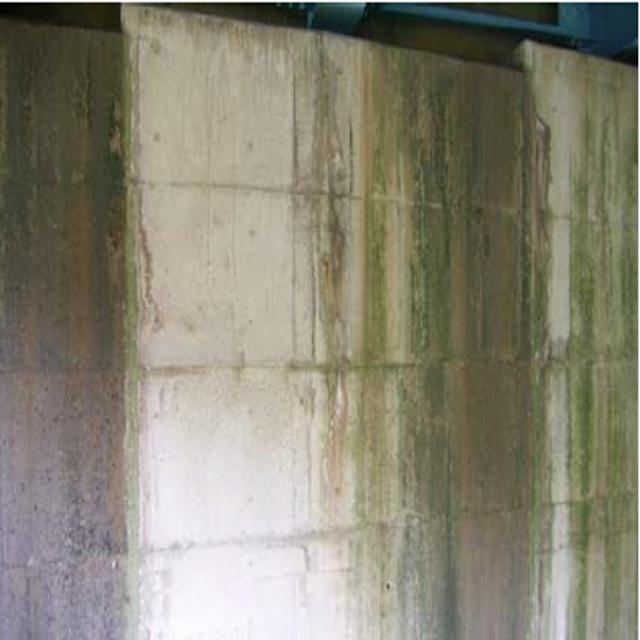leakage: (357, 51, 547, 638), (6, 19, 143, 637)
